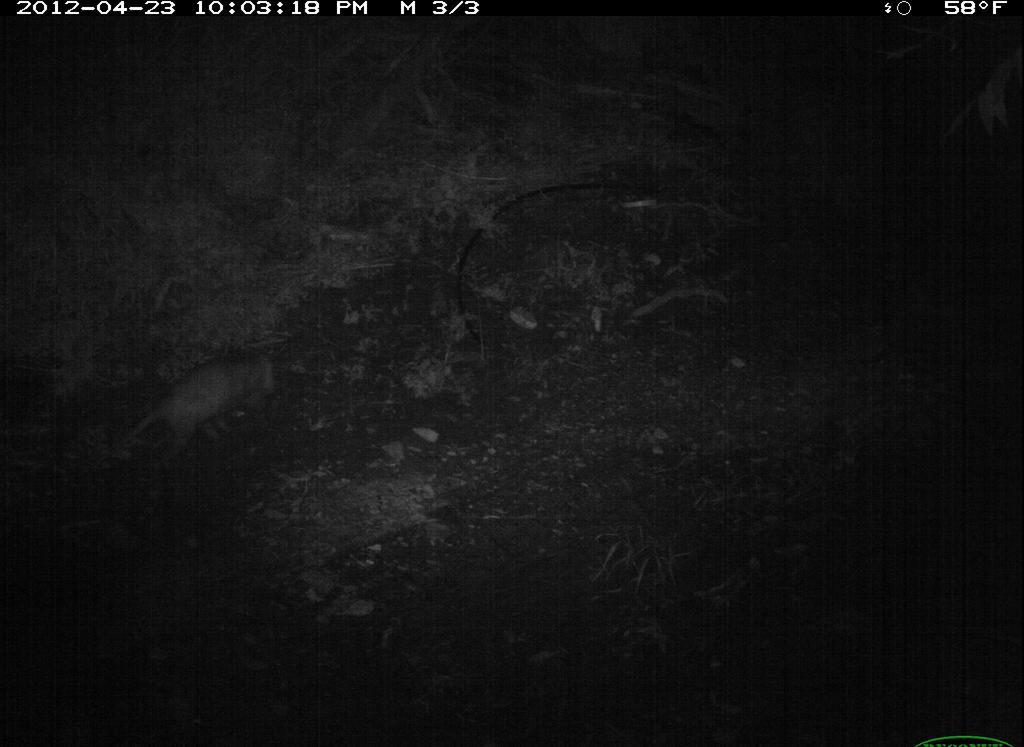opossum: (114, 338, 290, 457)
